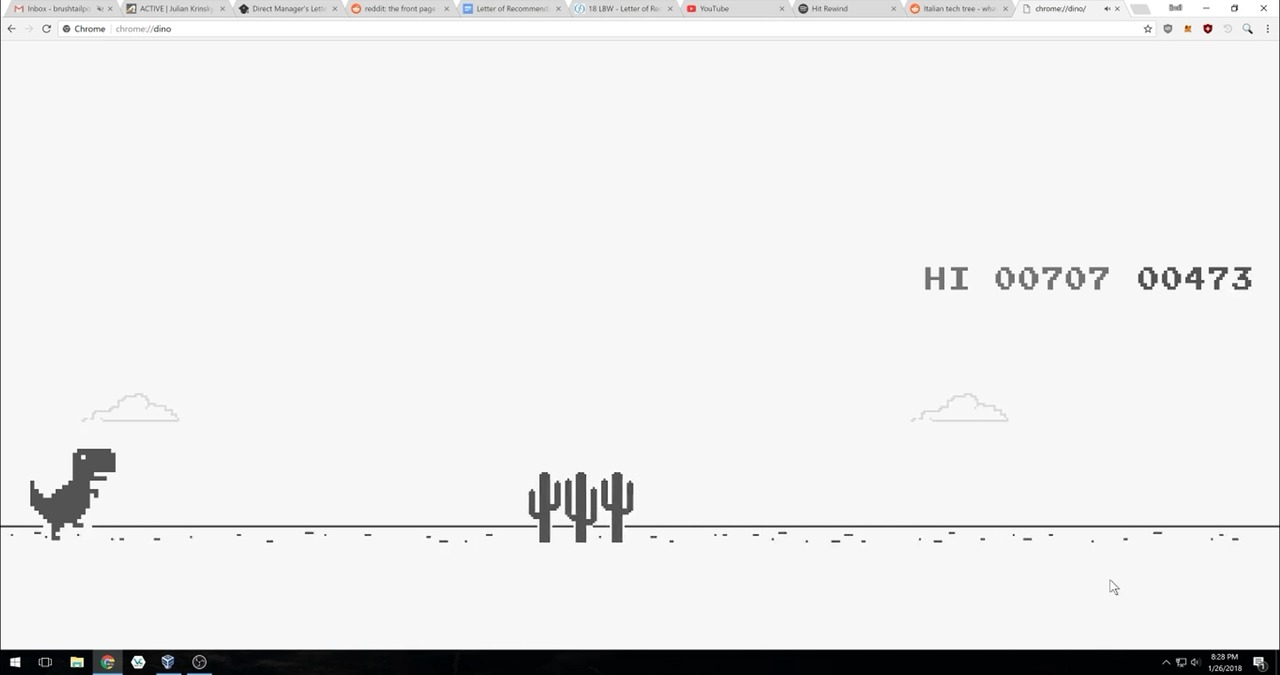cactus: (525, 468, 637, 545)
dinosaur: (22, 443, 118, 543)
